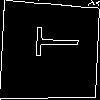T: (24, 26, 80, 59)
